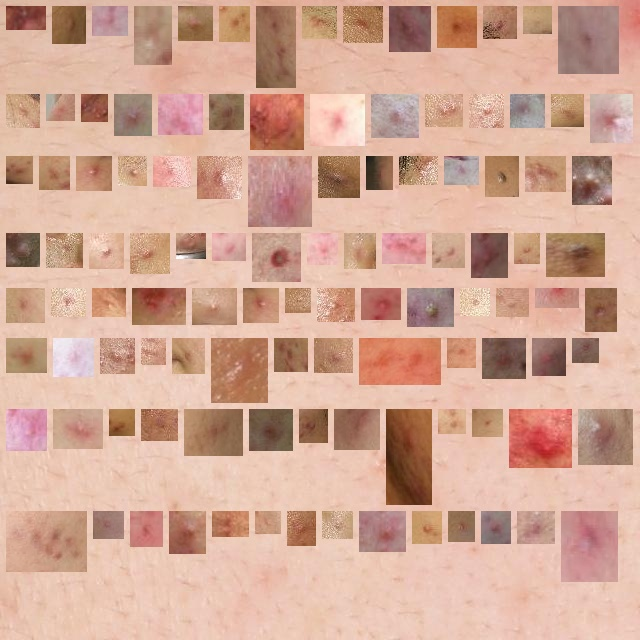papule: (14, 519, 79, 564), (256, 164, 304, 219), (394, 417, 424, 497), (566, 14, 611, 66), (569, 519, 610, 574), (367, 346, 433, 377), (517, 417, 564, 460), (219, 346, 260, 395), (264, 14, 288, 80), (586, 417, 625, 457), (258, 102, 296, 142), (318, 102, 357, 138), (192, 417, 235, 448), (554, 241, 597, 269), (140, 288, 178, 317), (260, 241, 293, 274), (142, 14, 164, 57), (379, 102, 411, 130), (598, 102, 625, 135), (61, 417, 95, 441), (580, 164, 604, 197), (205, 164, 234, 191), (397, 14, 423, 44), (367, 519, 398, 544), (342, 417, 372, 442), (257, 417, 285, 443), (166, 102, 195, 127), (415, 296, 446, 319), (490, 346, 518, 371), (326, 164, 352, 190), (14, 417, 39, 443), (445, 14, 469, 40), (479, 241, 500, 270), (200, 296, 229, 317), (138, 241, 162, 266), (61, 346, 86, 369), (122, 102, 144, 128), (177, 519, 198, 546), (351, 14, 375, 35), (533, 164, 558, 184), (14, 346, 39, 365), (493, 164, 511, 189), (593, 296, 609, 324), (14, 296, 37, 315), (322, 346, 345, 365), (390, 241, 418, 256), (54, 241, 75, 260), (60, 14, 78, 36), (325, 296, 347, 314), (540, 346, 558, 368), (369, 296, 393, 312), (217, 102, 236, 122), (84, 164, 104, 183), (97, 241, 116, 261), (251, 296, 271, 315), (108, 346, 127, 366), (433, 102, 455, 119), (525, 519, 547, 536), (186, 14, 205, 33), (14, 14, 38, 29), (477, 102, 496, 120), (518, 102, 537, 120), (180, 346, 197, 366), (138, 519, 155, 539), (149, 417, 170, 433), (161, 164, 183, 179), (14, 102, 32, 120), (14, 241, 32, 259), (282, 346, 300, 364), (310, 14, 329, 31), (440, 241, 457, 260), (352, 241, 368, 261), (491, 14, 509, 31), (227, 14, 242, 34), (407, 164, 430, 177), (559, 102, 576, 119), (100, 14, 120, 28), (47, 164, 62, 182), (452, 164, 471, 177), (59, 296, 78, 309), (295, 519, 308, 538), (315, 241, 330, 257), (420, 519, 434, 536), (489, 519, 503, 536), (100, 296, 118, 309), (307, 417, 320, 435), (504, 296, 521, 309), (220, 241, 238, 253), (220, 519, 241, 529), (374, 164, 385, 182), (126, 164, 139, 178), (455, 346, 468, 360), (480, 417, 495, 429), (101, 519, 116, 531), (330, 519, 345, 531), (468, 296, 482, 308), (456, 519, 467, 534), (531, 14, 544, 26), (522, 241, 532, 256), (54, 102, 67, 113), (184, 241, 198, 251), (89, 102, 100, 114), (14, 164, 25, 176), (117, 417, 127, 428), (446, 417, 458, 426), (149, 346, 158, 357), (580, 346, 591, 355), (293, 296, 303, 305), (263, 519, 273, 526)
